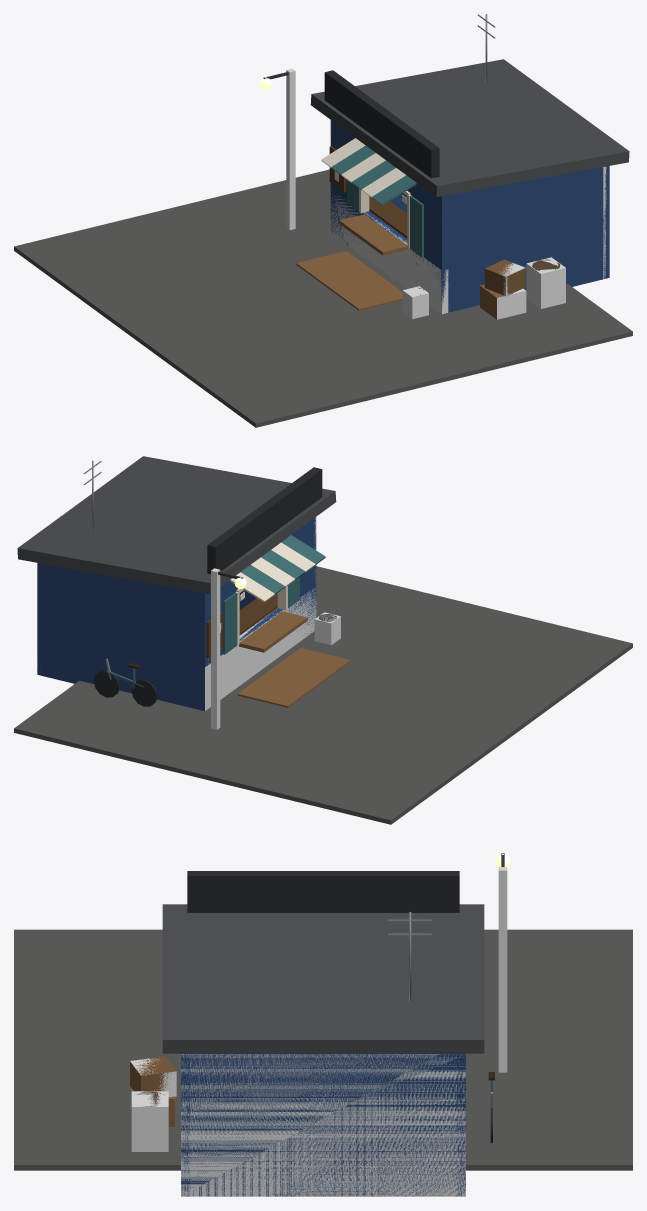
Rendered from booth-13.glb.
3 views of the same model, one above another, from view 1: azimuth 30°, elevation 25°; view 2: azimuth 150°, elevation 25°; view 3: azimuth 270°, elevation 25° (orthographic). The views are drawn at different scales.
Parts seen in each view (by area): view 1: 30_#5a5a58_noshadow, 31_#4c4e52, 20_#2c4a7a, 32_#2a2c30_noshadow, solid.008, 04_#8a6440_noshadow, 01_#3f6f73_noshadow_r320, 00_#e8e0d0_noshadow_r320, 07_#8a6440_r320, solid.003, solid.004, 21_#2c4a7a_r320 (+4 smaller); view 2: 30_#5a5a58_noshadow, 31_#4c4e52, 20_#2c4a7a, 32_#2a2c30_noshadow, 04_#8a6440_noshadow, solid.008, 01_#3f6f73_noshadow_r320, 00_#e8e0d0_noshadow_r320, solid.004, 07_#8a6440_r320, 13_#2a2c30_r110, 21_#2c4a7a_r320 (+2 smaller); view 3: 30_#5a5a58_noshadow, 31_#4c4e52, solid.005, 20_#2c4a7a, 32_#2a2c30_noshadow, solid.003, solid.004, 08_#7a5a3a_r110, solid.002.
Boxes of the visible parts, x1,y1,x2,y2 form: 30_#5a5a58_noshadow: (14, 169, 632, 427); 31_#4c4e52: (310, 59, 629, 197); 20_#2c4a7a: (330, 120, 609, 312); 32_#2a2c30_noshadow: (324, 70, 439, 178); solid.008: (330, 192, 448, 314); 04_#8a6440_noshadow: (296, 251, 402, 310); 01_#3f6f73_noshadow_r320: (331, 145, 423, 257); 00_#e8e0d0_noshadow_r320: (321, 138, 411, 248); 07_#8a6440_r320: (339, 214, 512, 319); solid.003: (526, 257, 565, 308); solid.004: (286, 68, 295, 230); 21_#2c4a7a_r320: (331, 137, 442, 269); 30_#5a5a58_noshadow: (14, 566, 632, 824); 31_#4c4e52: (17, 456, 336, 593); 20_#2c4a7a: (37, 518, 316, 711); 32_#2a2c30_noshadow: (207, 467, 322, 574); 04_#8a6440_noshadow: (237, 648, 350, 707); solid.008: (205, 588, 316, 710); 01_#3f6f73_noshadow_r320: (223, 535, 325, 654); 00_#e8e0d0_noshadow_r320: (230, 542, 315, 645); solid.004: (211, 568, 220, 729); 07_#8a6440_r320: (239, 611, 307, 652); 13_#2a2c30_r110: (94, 670, 157, 706); 21_#2c4a7a_r320: (198, 534, 316, 666); 30_#5a5a58_noshadow: (14, 929, 632, 1170); 31_#4c4e52: (162, 904, 484, 1053); solid.005: (181, 1054, 465, 1196); 20_#2c4a7a: (181, 1053, 465, 1196); 32_#2a2c30_noshadow: (187, 871, 459, 912); solid.003: (131, 1091, 168, 1151); solid.004: (498, 867, 507, 1072); 08_#7a5a3a_r110: (130, 1056, 175, 1091); solid.002: (130, 1058, 176, 1097).
Bounding box in the file's own units: 10.3 × 4.7 × 10.
